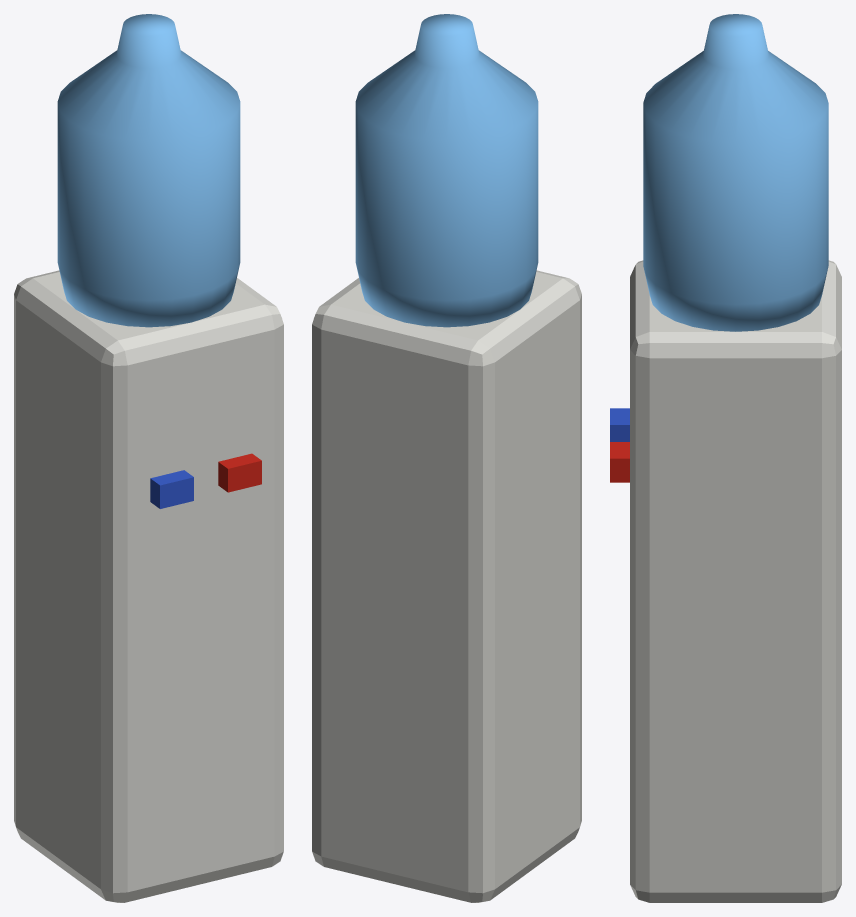
File: water_cooler.glb
3 views of the same model, side by side, from view 1: azimuth 30°, elevation 25°; view 2: azimuth 150°, elevation 25°; view 3: azimuth 270°, elevation 25° (orthographic).
Parts seen in each view (by area): view 1: water_cooler; view 2: water_cooler; view 3: water_cooler.
Part boxes in pixels (bbox=[...]): water_cooler: bbox=[14, 14, 283, 902]; water_cooler: bbox=[312, 14, 581, 902]; water_cooler: bbox=[610, 14, 841, 902].
Bounding box in the file's own units: 0.32 × 1.4 × 0.35.
